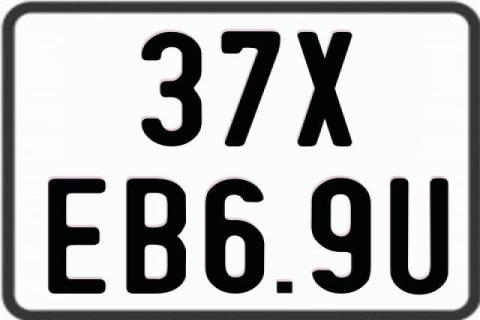0: (310, 176, 374, 294), (220, 31, 282, 147), (140, 32, 200, 150), (203, 177, 263, 292)
B: (125, 178, 185, 298)
E: (47, 176, 108, 292)
U: (387, 177, 451, 293)
X: (295, 30, 350, 144)
